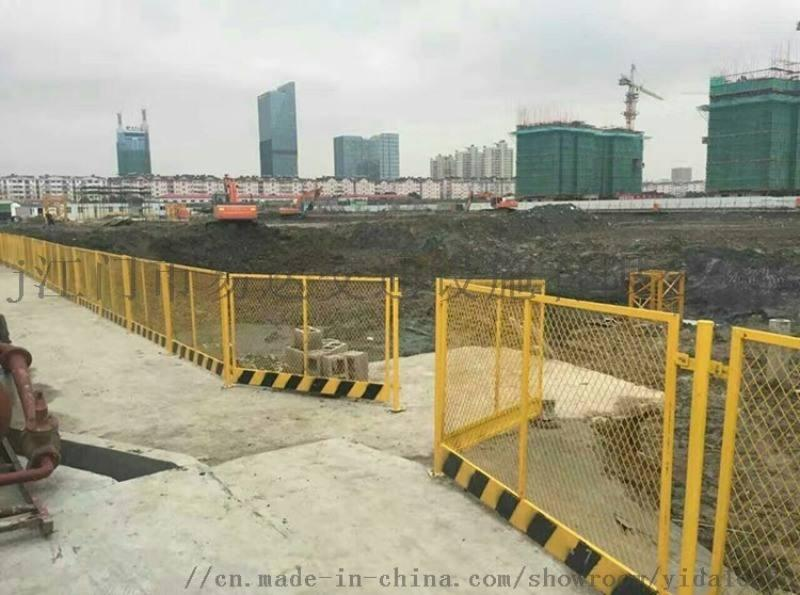sign: (425, 268, 800, 595), (121, 249, 408, 411)
